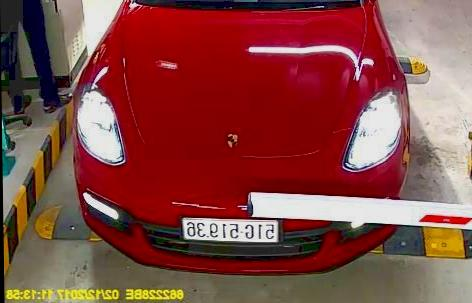License_Plate: (182, 218, 281, 241)
